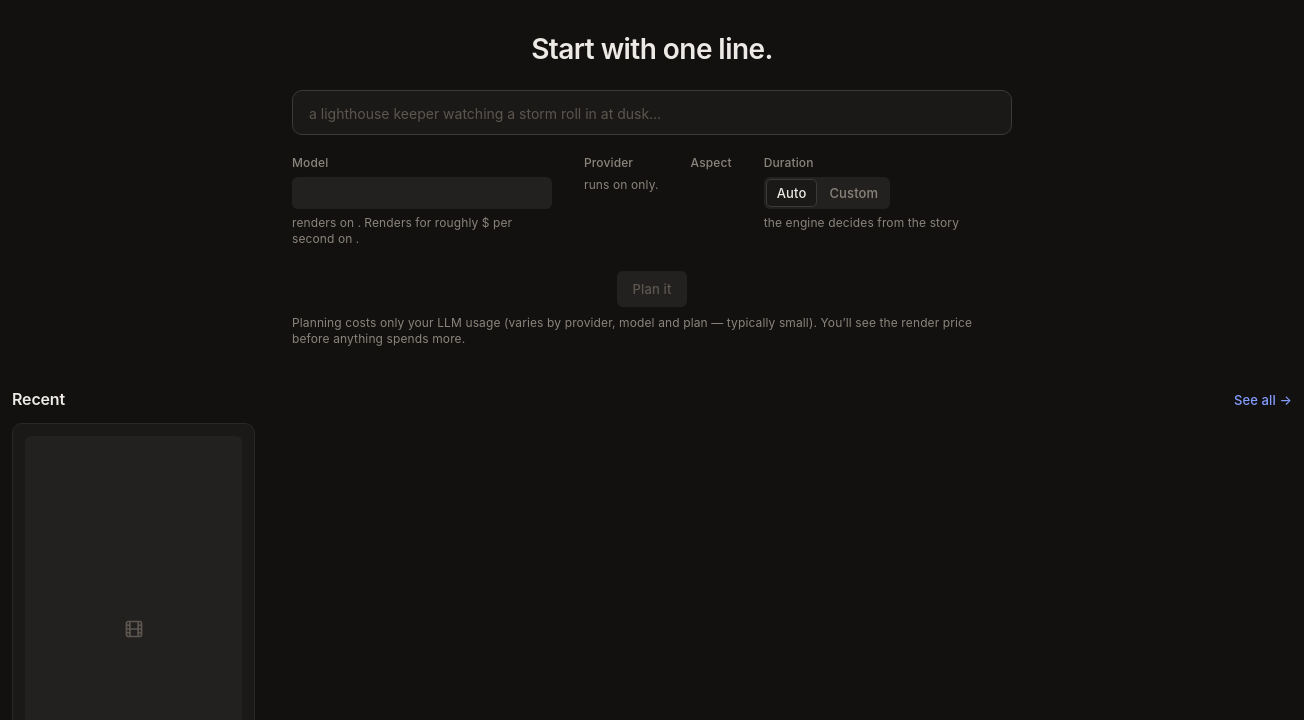
Test: Home — create hero › a failed create surfaces the server hint inline, not as a toast
Type "hm" into the text box named "Your idea, in one line".
click(652, 112); type("hm")  # box [292, 90, 1012, 135]
Then press Enter
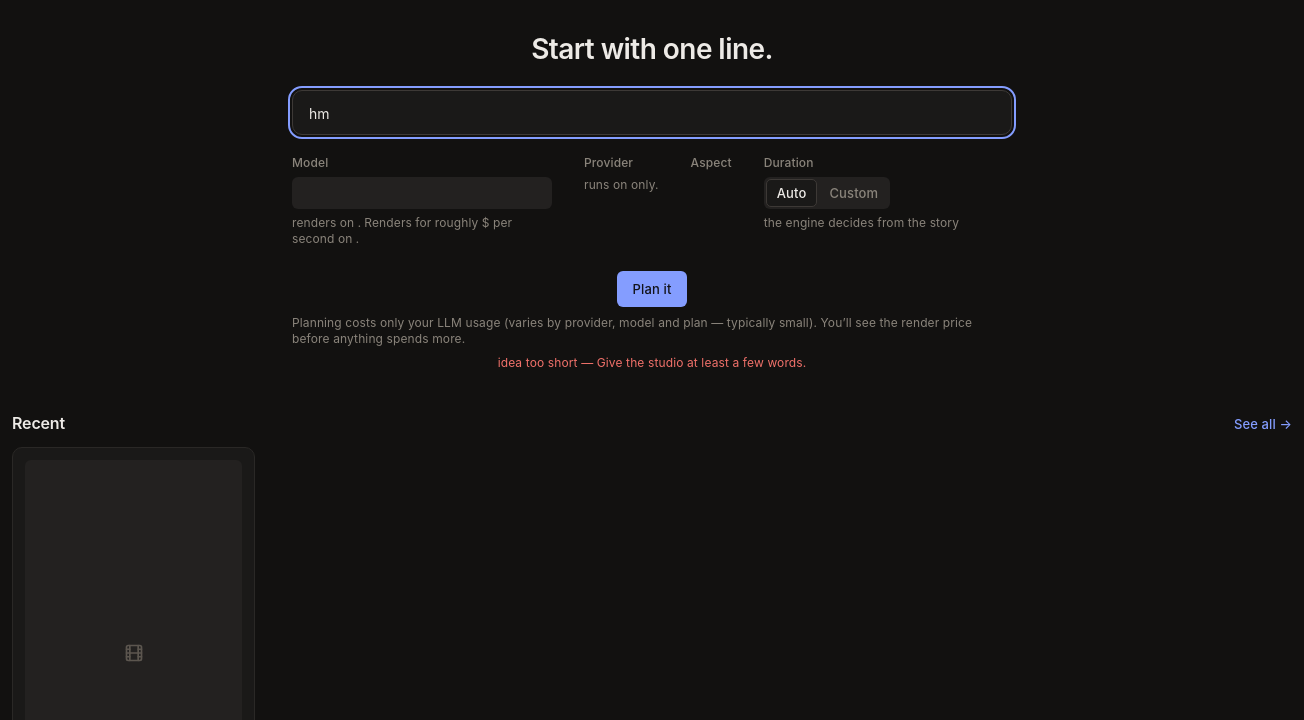
Now the message shows "Give the studio at least a few words.", box [498, 355, 806, 370]
